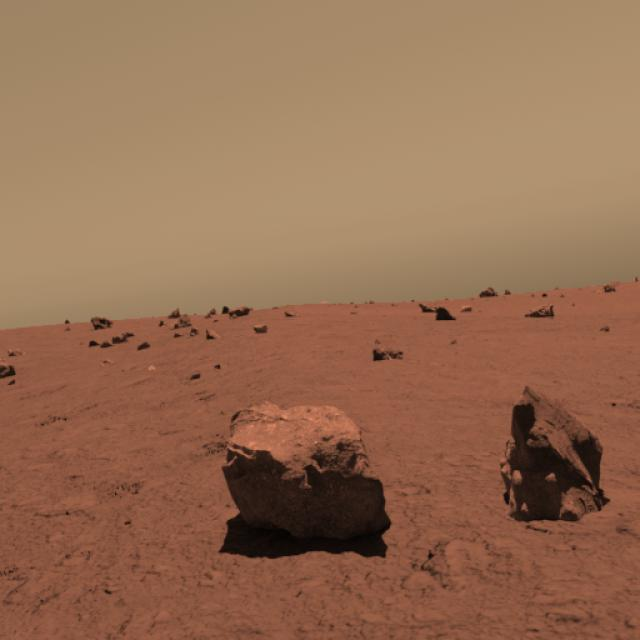rock: (228, 391, 383, 551), (503, 382, 608, 525)
